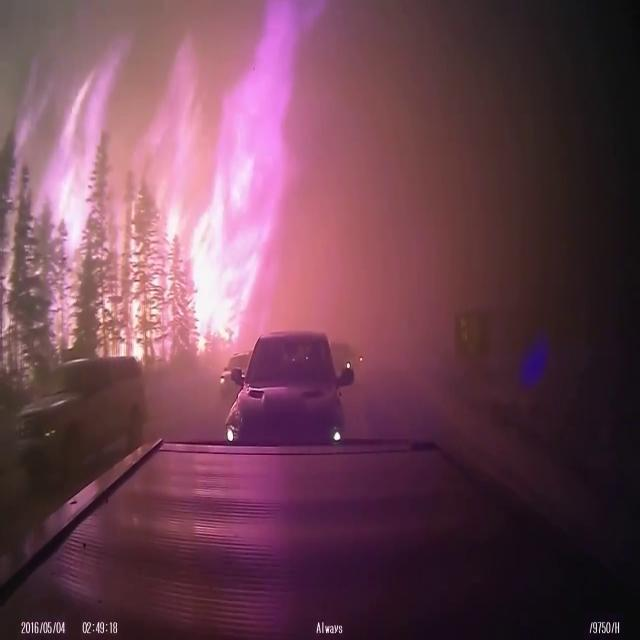Fire: (9, 92, 279, 368)
Smoke: (246, 1, 634, 407)
